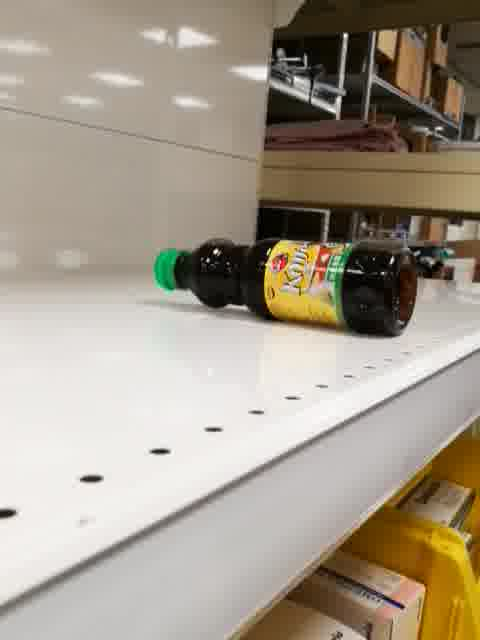cookingoil: (146, 234, 422, 341)
